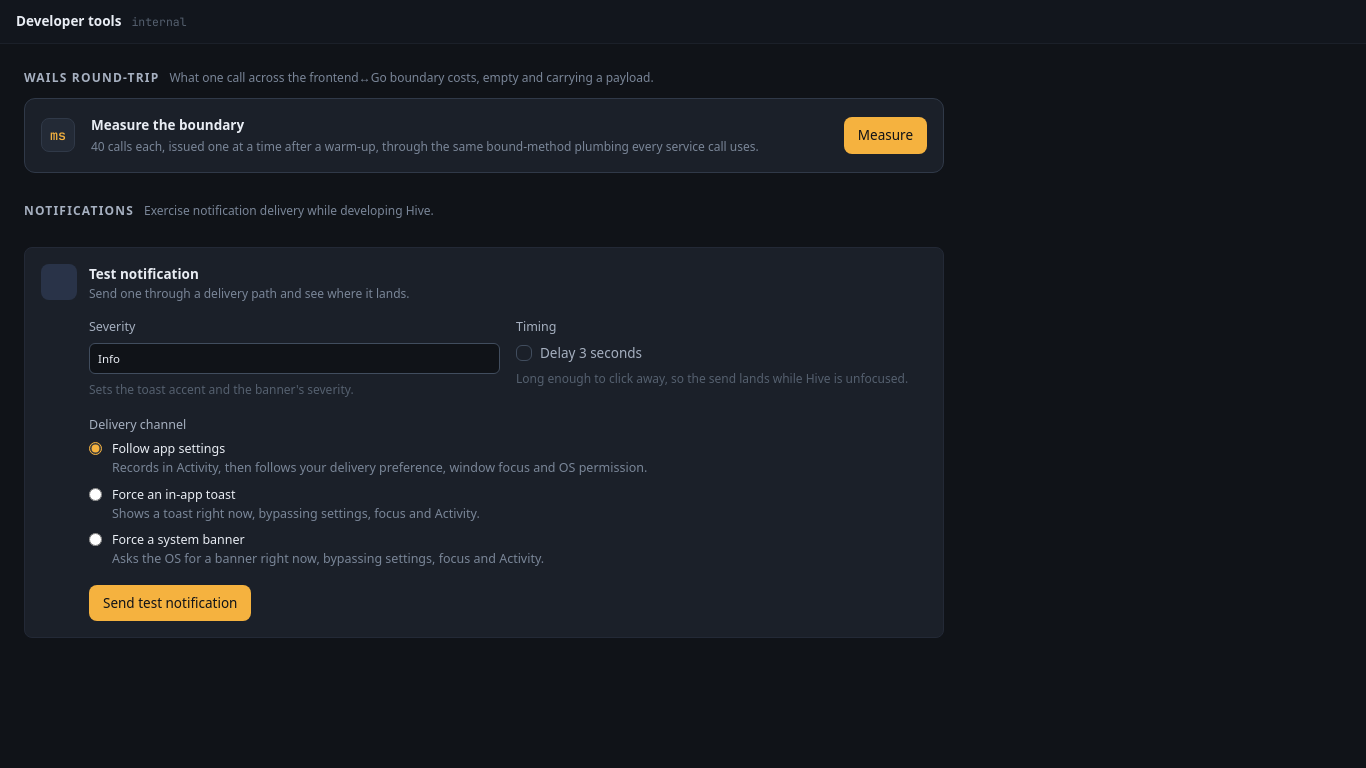
Test: DevView notification test card › reports an auto notification suppressed to Activity when notifications are off
Click the button with test id "dev-notification-send": coordinates (170, 603) [89,585,251,621]
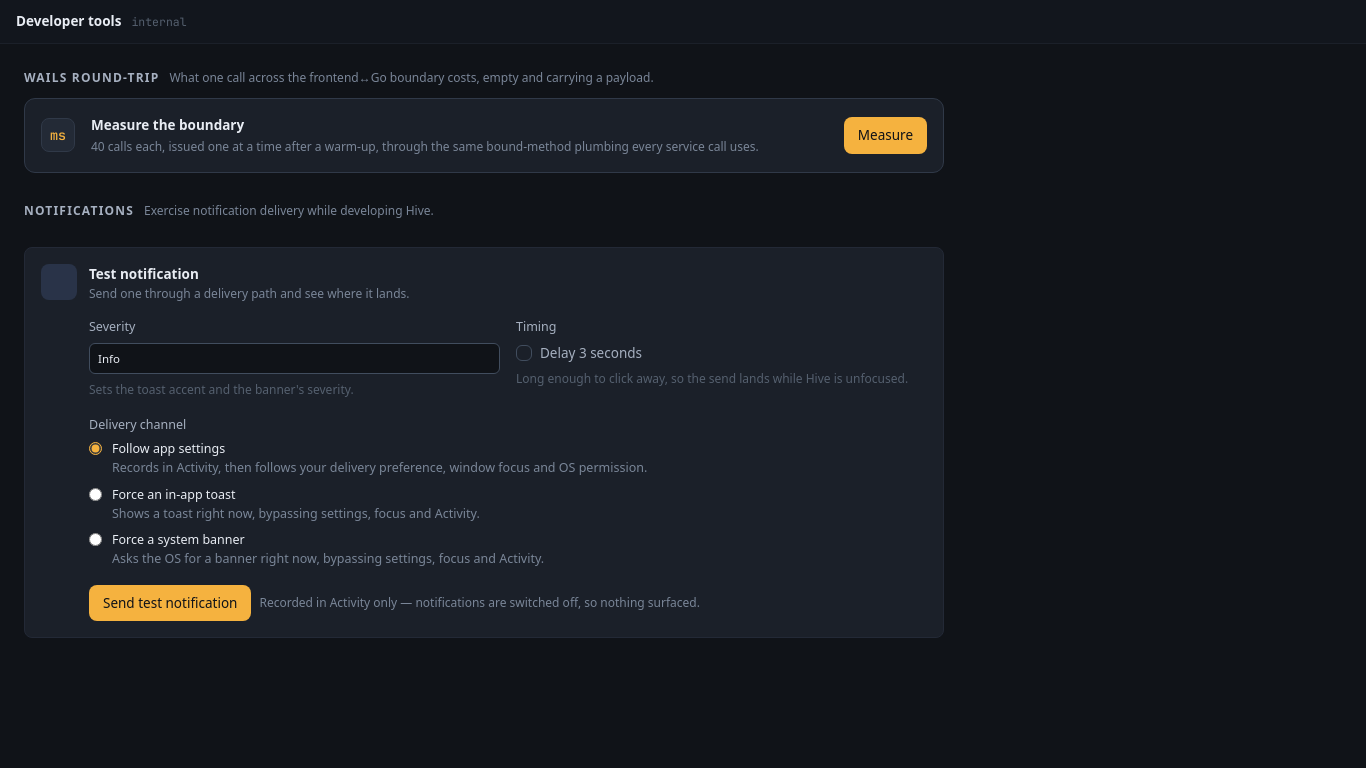
Result: the text with test id "dev-notification-result" reads "Recorded in Activity only — notifications are switched off, so nothing surfaced." at [259,594,700,611]
